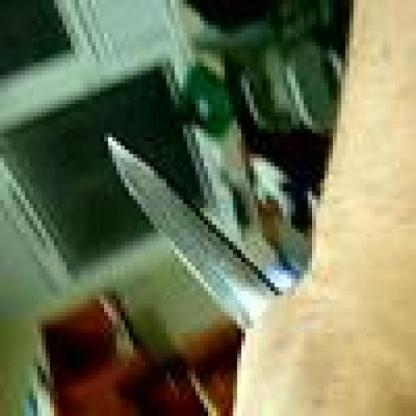Knife: (100, 125, 292, 341)
